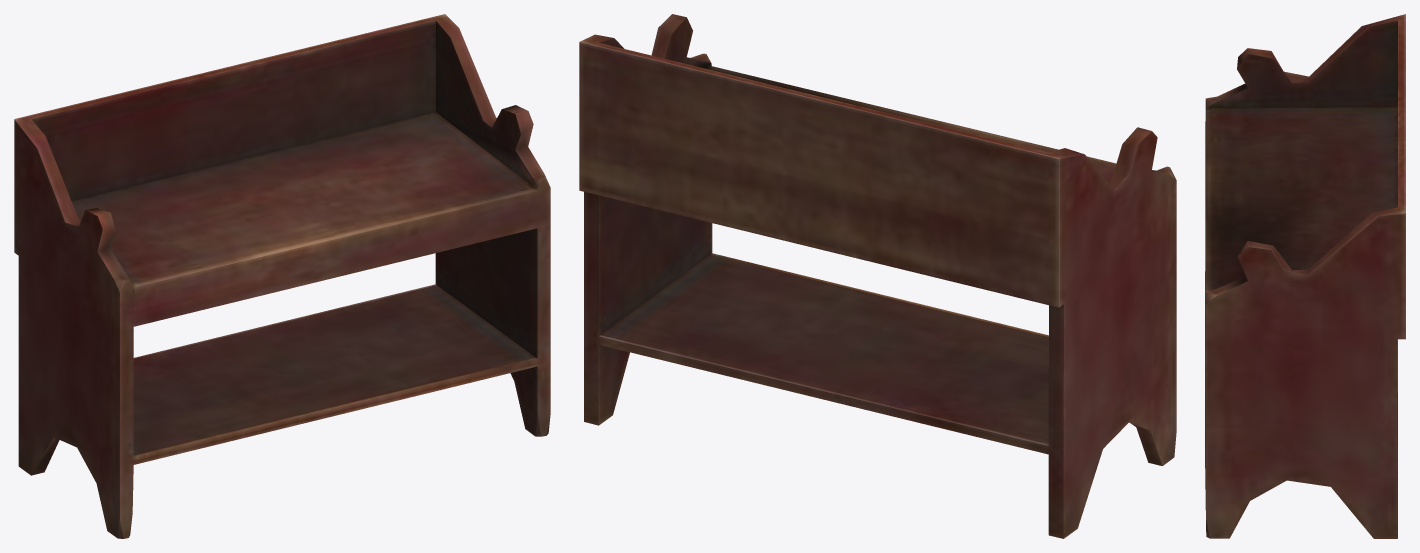
File: th_holzbank.glb
The picture shows the model from 3 angles, left to right: view 1: azimuth 30°, elevation 25°; view 2: azimuth 150°, elevation 25°; view 3: azimuth 270°, elevation 25°; orthographic projection. The views are drawn at different scales.
Visible parts, largest first — view 1: painted_wooden_bench; view 2: painted_wooden_bench; view 3: painted_wooden_bench.
Part boxes in pixels (box(x1,y1,x2,y2)): painted_wooden_bench: box(14, 14, 550, 538); painted_wooden_bench: box(579, 14, 1176, 538); painted_wooden_bench: box(1205, 14, 1405, 538).
Bounding box in the file's own units: 1.16 × 0.8893 × 0.4965.
Materials: 1 (1 with a texture image).
